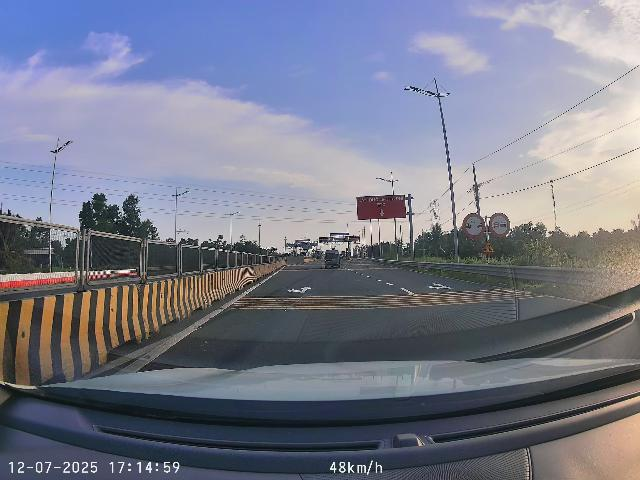125-cam-vuot: (490, 212, 510, 237)
